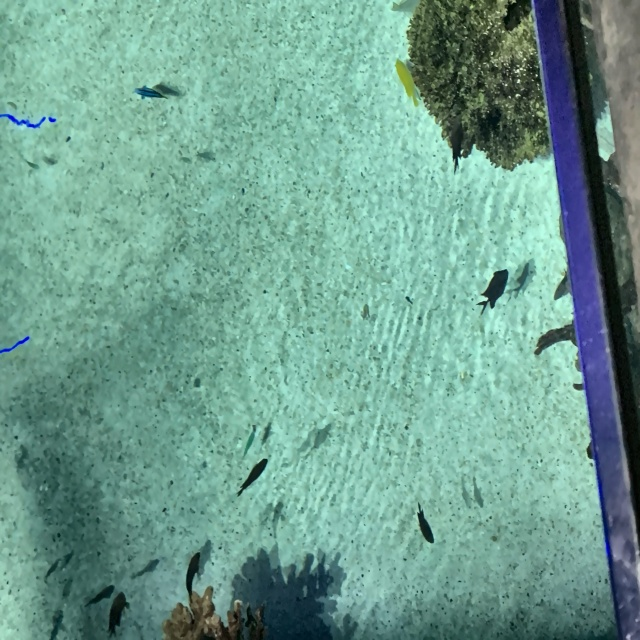fish: (477, 265, 509, 317), (236, 457, 270, 500), (107, 591, 133, 639), (395, 59, 420, 108), (183, 548, 203, 607), (414, 503, 438, 549), (86, 579, 115, 610), (135, 81, 167, 106), (242, 428, 256, 459)
